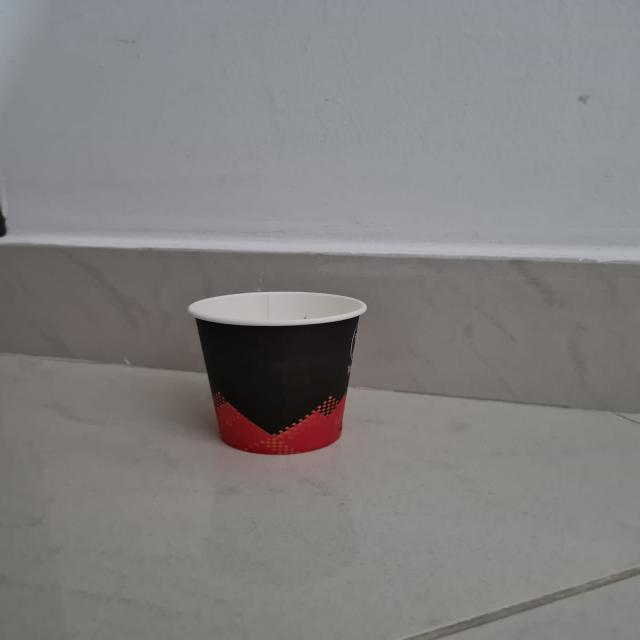cups: (185, 289, 369, 456)
